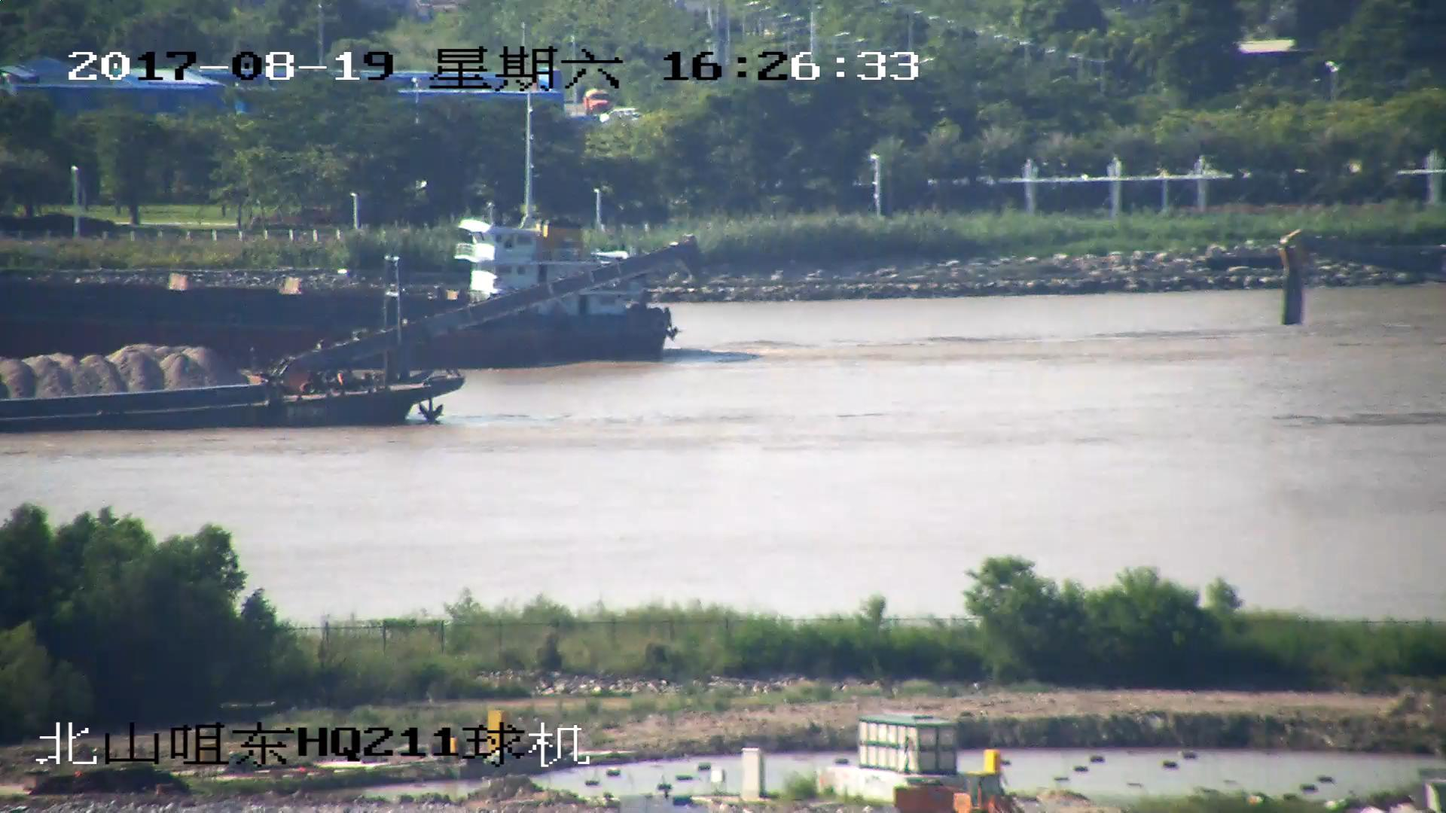bulk cargo carrier: (0, 196, 678, 360)
ore carrier: (0, 239, 696, 437)
